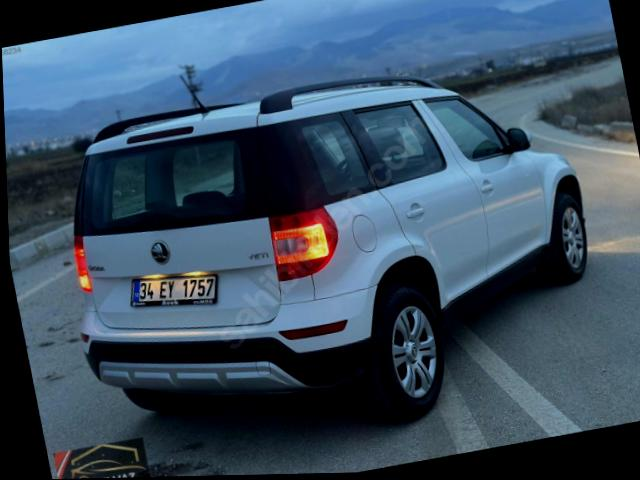plaka: (131, 275, 216, 306)
